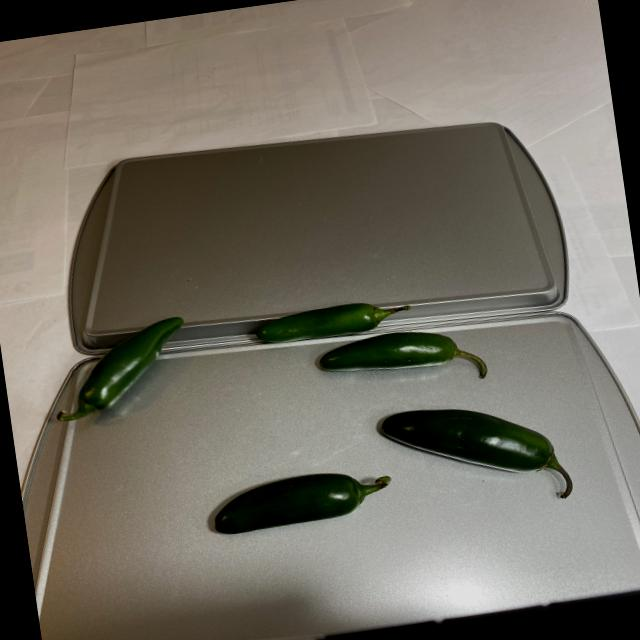chilli: (56, 269, 580, 572)
